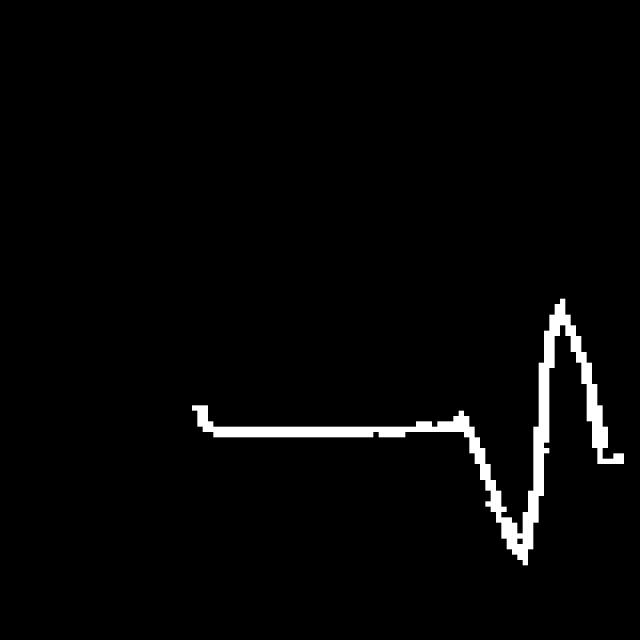resistor: (442, 299, 618, 569)
